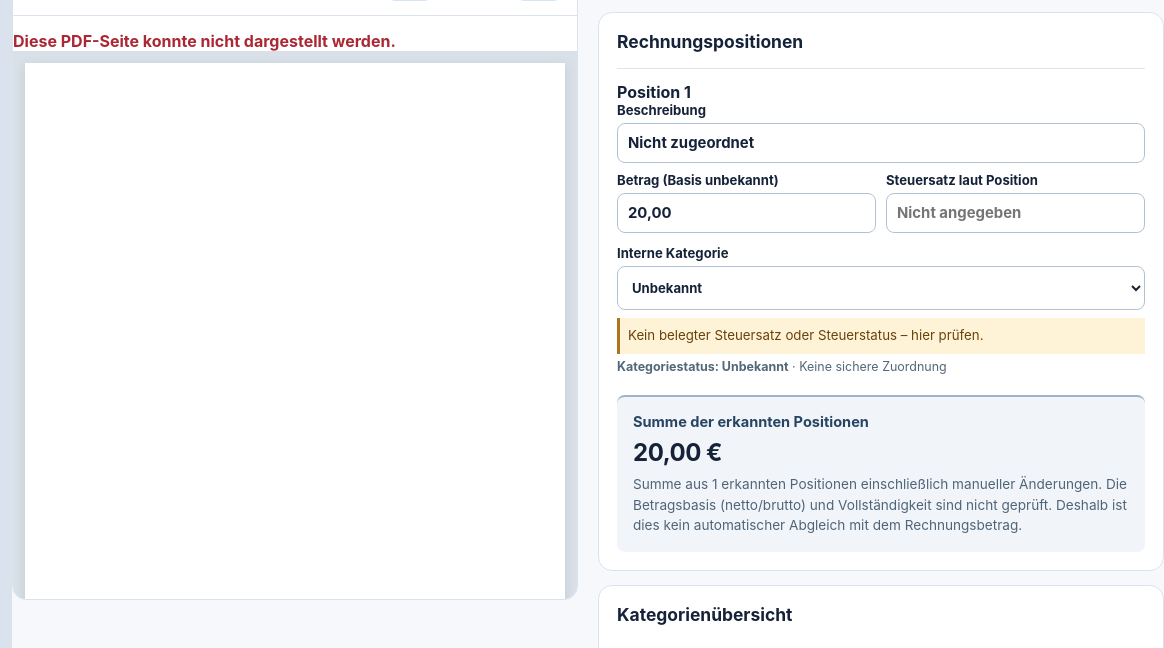
Test: asynchronous category suggestions › does not overwrite a manual category with a late automatic prediction
(page scrolled)
Select "Sonstiges" in the dropdown named "Position 1 Kategorie" at (881, 288), box [617,266,1145,310]
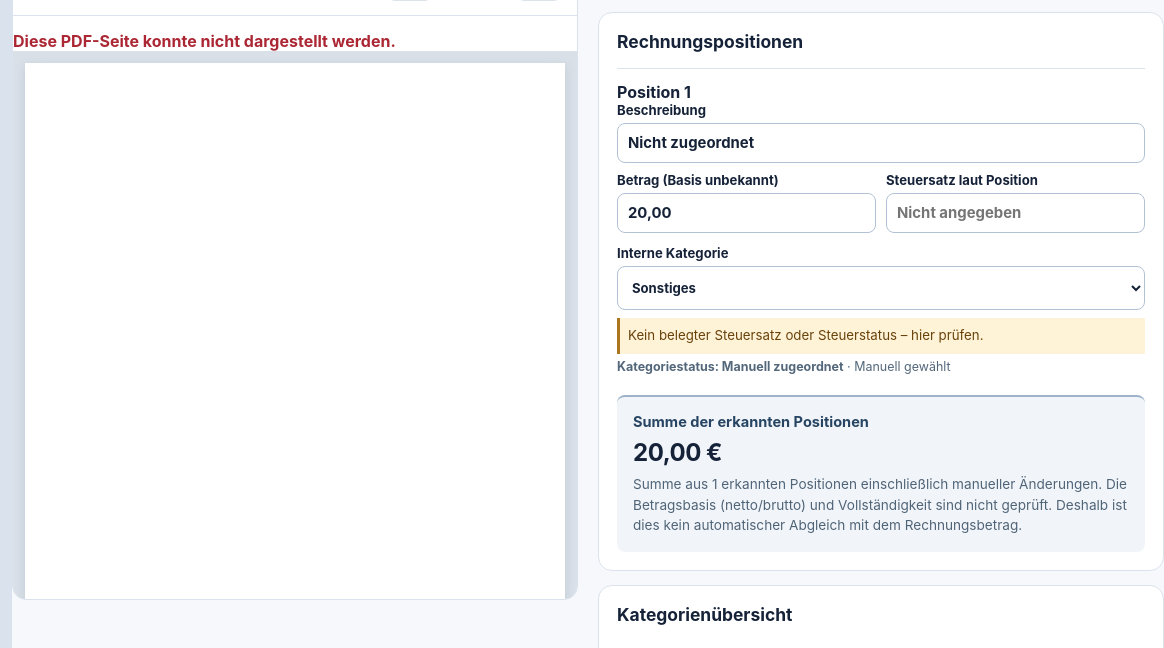
expect the text "Manuell gewählt" is shown: met, box [854,359,951,374]
